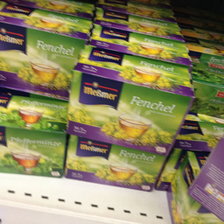tea: (65, 45, 194, 156), (1, 2, 93, 97), (1, 98, 71, 175)
